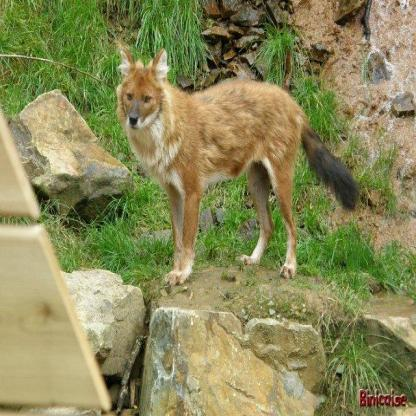dhole: (114, 47, 361, 286)
